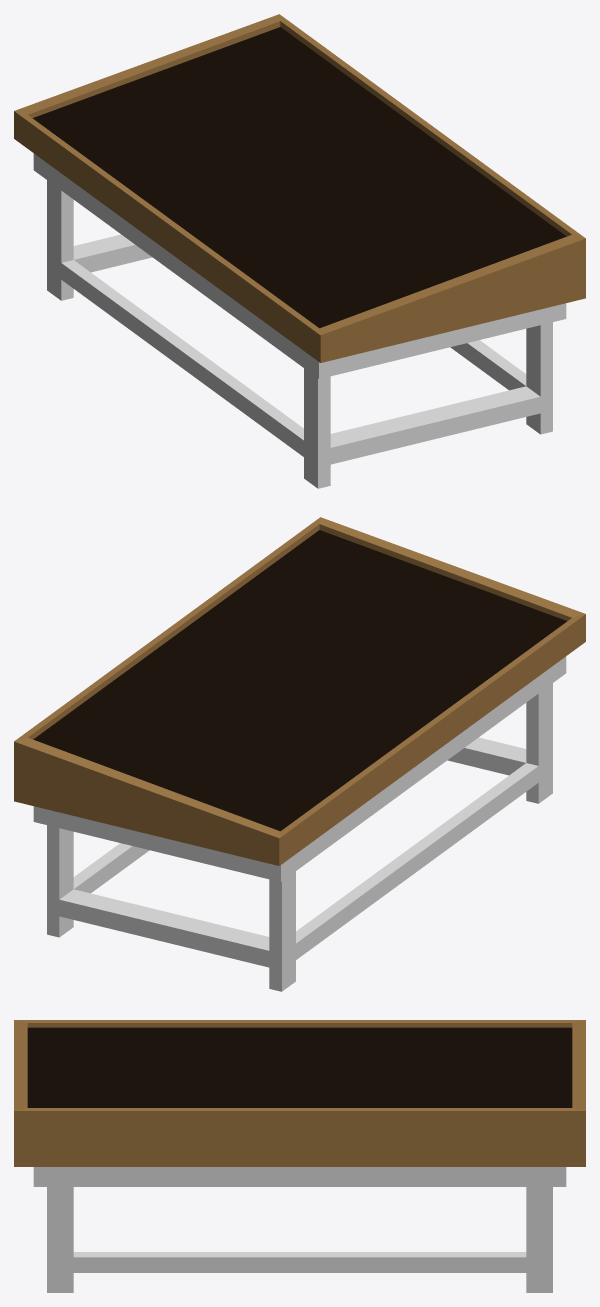
File: experimental farm - slopped.fbx
3 renders of one model, top to bottom at view 1: azimuth 30°, elevation 25°; view 2: azimuth 150°, elevation 25°; view 3: azimuth 270°, elevation 25°, orthographic. The views are drawn at different scales.
Visible parts, largest first — view 1: Cube.003, Cube.002, Cube.001, Cube; view 2: Cube.003, Cube.002, Cube.001, Cube; view 3: Cube.003, Cube.002, Cube.001, Cube.
Boxes of the visible parts, x1=… form: Cube.003: x1=32, y1=27, x2=566, y2=328; Cube.002: x1=14, y1=14, x2=585, y2=362; Cube.001: x1=47, y1=180, x2=552, y2=488; Cube: x1=33, y1=153, x2=566, y2=378; Cube.003: x1=33, y1=530, x2=567, y2=831; Cube.002: x1=14, y1=517, x2=585, y2=865; Cube.001: x1=47, y1=683, x2=552, y2=991; Cube: x1=33, y1=656, x2=566, y2=881; Cube.003: x1=27, y1=1027, x2=572, y2=1107; Cube.002: x1=14, y1=1020, x2=585, y2=1166; Cube.001: x1=47, y1=1187, x2=552, y2=1292; Cube: x1=33, y1=1167, x2=566, y2=1186.
Bounding box in the file's own units: 215 × 156 × 430.
